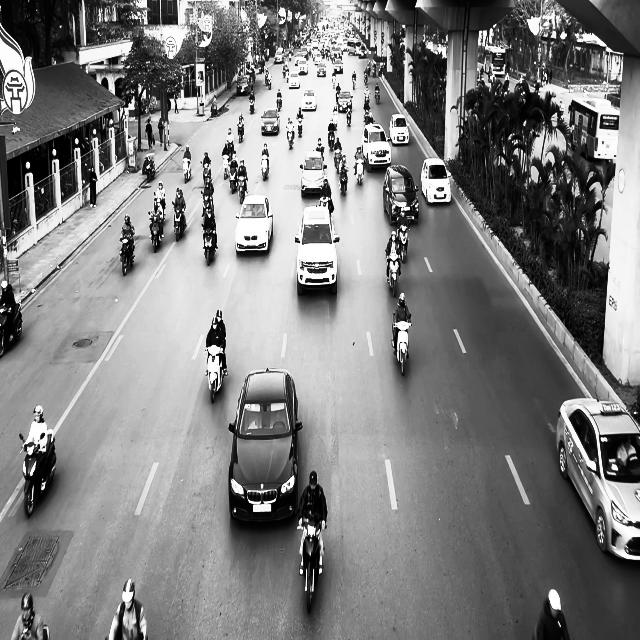bus: (568, 96, 620, 162), (484, 46, 507, 78)
car: (556, 397, 640, 562), (228, 368, 303, 524), (294, 205, 340, 296), (234, 194, 273, 254), (383, 163, 419, 226), (362, 123, 392, 172), (421, 158, 452, 205), (299, 150, 327, 198), (390, 114, 410, 145), (260, 107, 280, 135), (301, 88, 317, 111)
motorbike: (19, 428, 56, 518), (297, 513, 325, 613), (204, 344, 227, 403), (391, 314, 412, 376), (0, 299, 22, 357), (385, 249, 401, 297), (201, 222, 217, 266), (119, 234, 135, 276), (148, 212, 163, 252), (172, 201, 186, 241), (396, 222, 409, 262), (200, 190, 213, 218), (143, 154, 155, 183), (237, 175, 248, 204), (353, 156, 364, 184), (338, 166, 348, 196), (182, 157, 192, 183), (261, 152, 269, 180), (286, 126, 294, 149), (296, 115, 304, 136), (237, 122, 244, 142)
